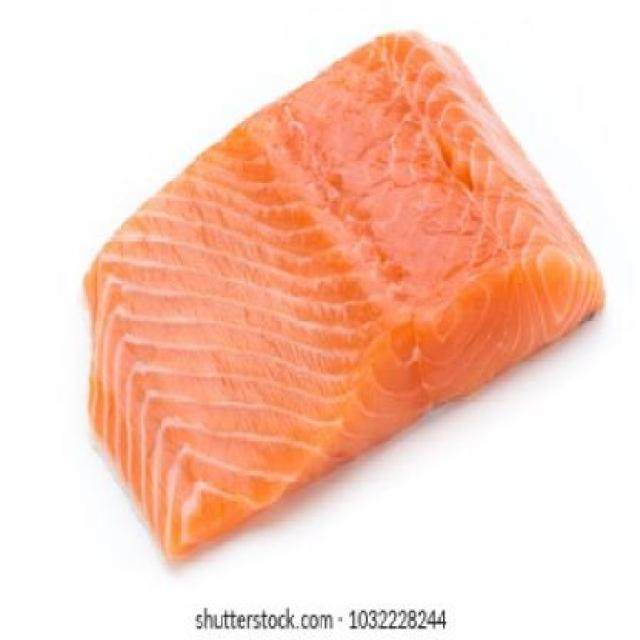salmon: (66, 26, 615, 577)
